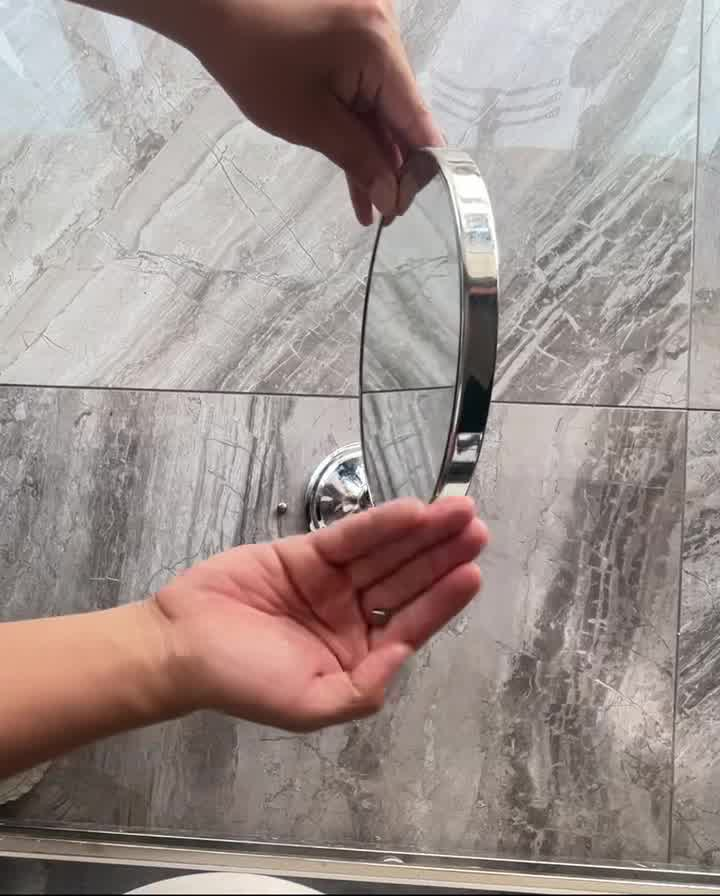base: (315, 439, 405, 541)
mirror: (365, 146, 510, 527)
screw: (363, 599, 389, 635), (276, 502, 298, 526)
